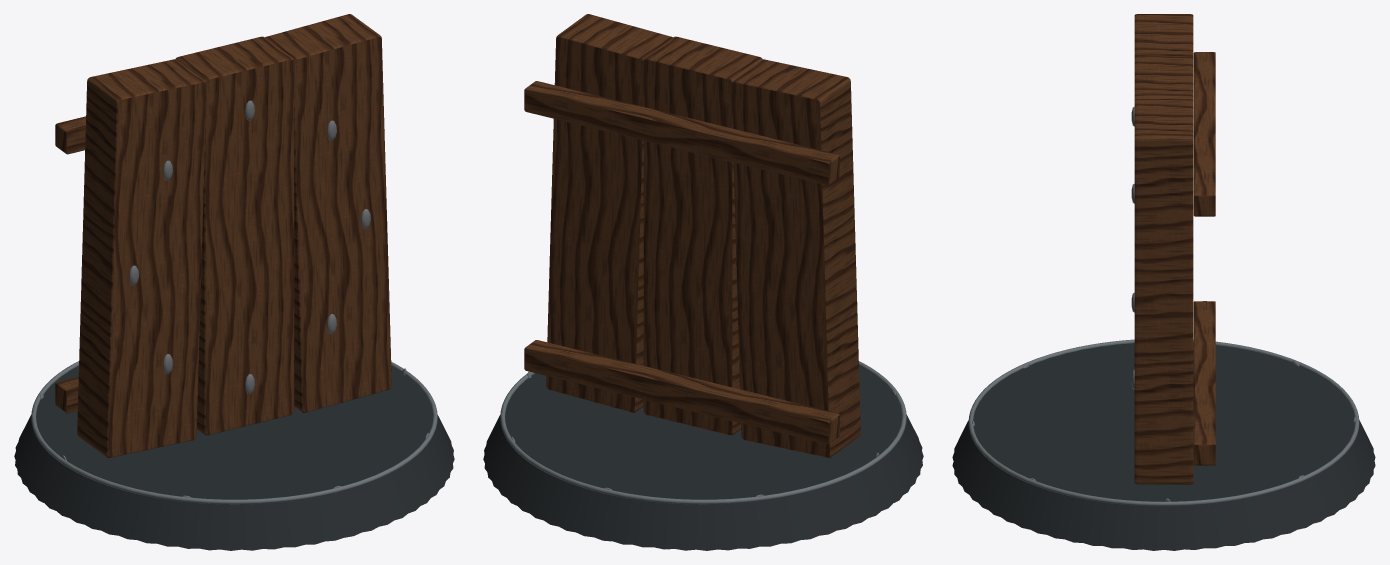
The picture shows the model from 3 angles, left to right: view 1: azimuth 30°, elevation 25°; view 2: azimuth 150°, elevation 25°; view 3: azimuth 270°, elevation 25°; orthographic projection. The views are drawn at different scales.
Parts seen in each view (by area): view 1: surface specimen, neutral specimen stand, specimen edge, turned rim; view 2: surface specimen, neutral specimen stand, specimen edge; view 3: neutral specimen stand, surface specimen, specimen edge.
Part boxes in pixels (x1,y1,x2,y2): surface specimen: (55, 14, 391, 457); neutral specimen stand: (14, 366, 454, 550); specimen edge: (31, 361, 437, 504); turned rim: (129, 100, 370, 393); surface specimen: (524, 14, 860, 457); neutral specimen stand: (483, 366, 923, 550); specimen edge: (500, 361, 906, 504); neutral specimen stand: (952, 343, 1375, 550); surface specimen: (1134, 14, 1215, 484); specimen edge: (968, 339, 1359, 506).
Size of the model in its own units: 0.539 by 0.5433 by 0.539.
Materials: 4 (1 with a texture image).
